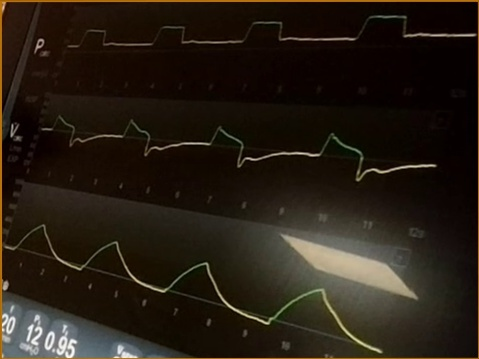Premature_cycling Flow: (40, 112, 436, 182)
Premature_cycling Volume: (8, 221, 388, 352)
